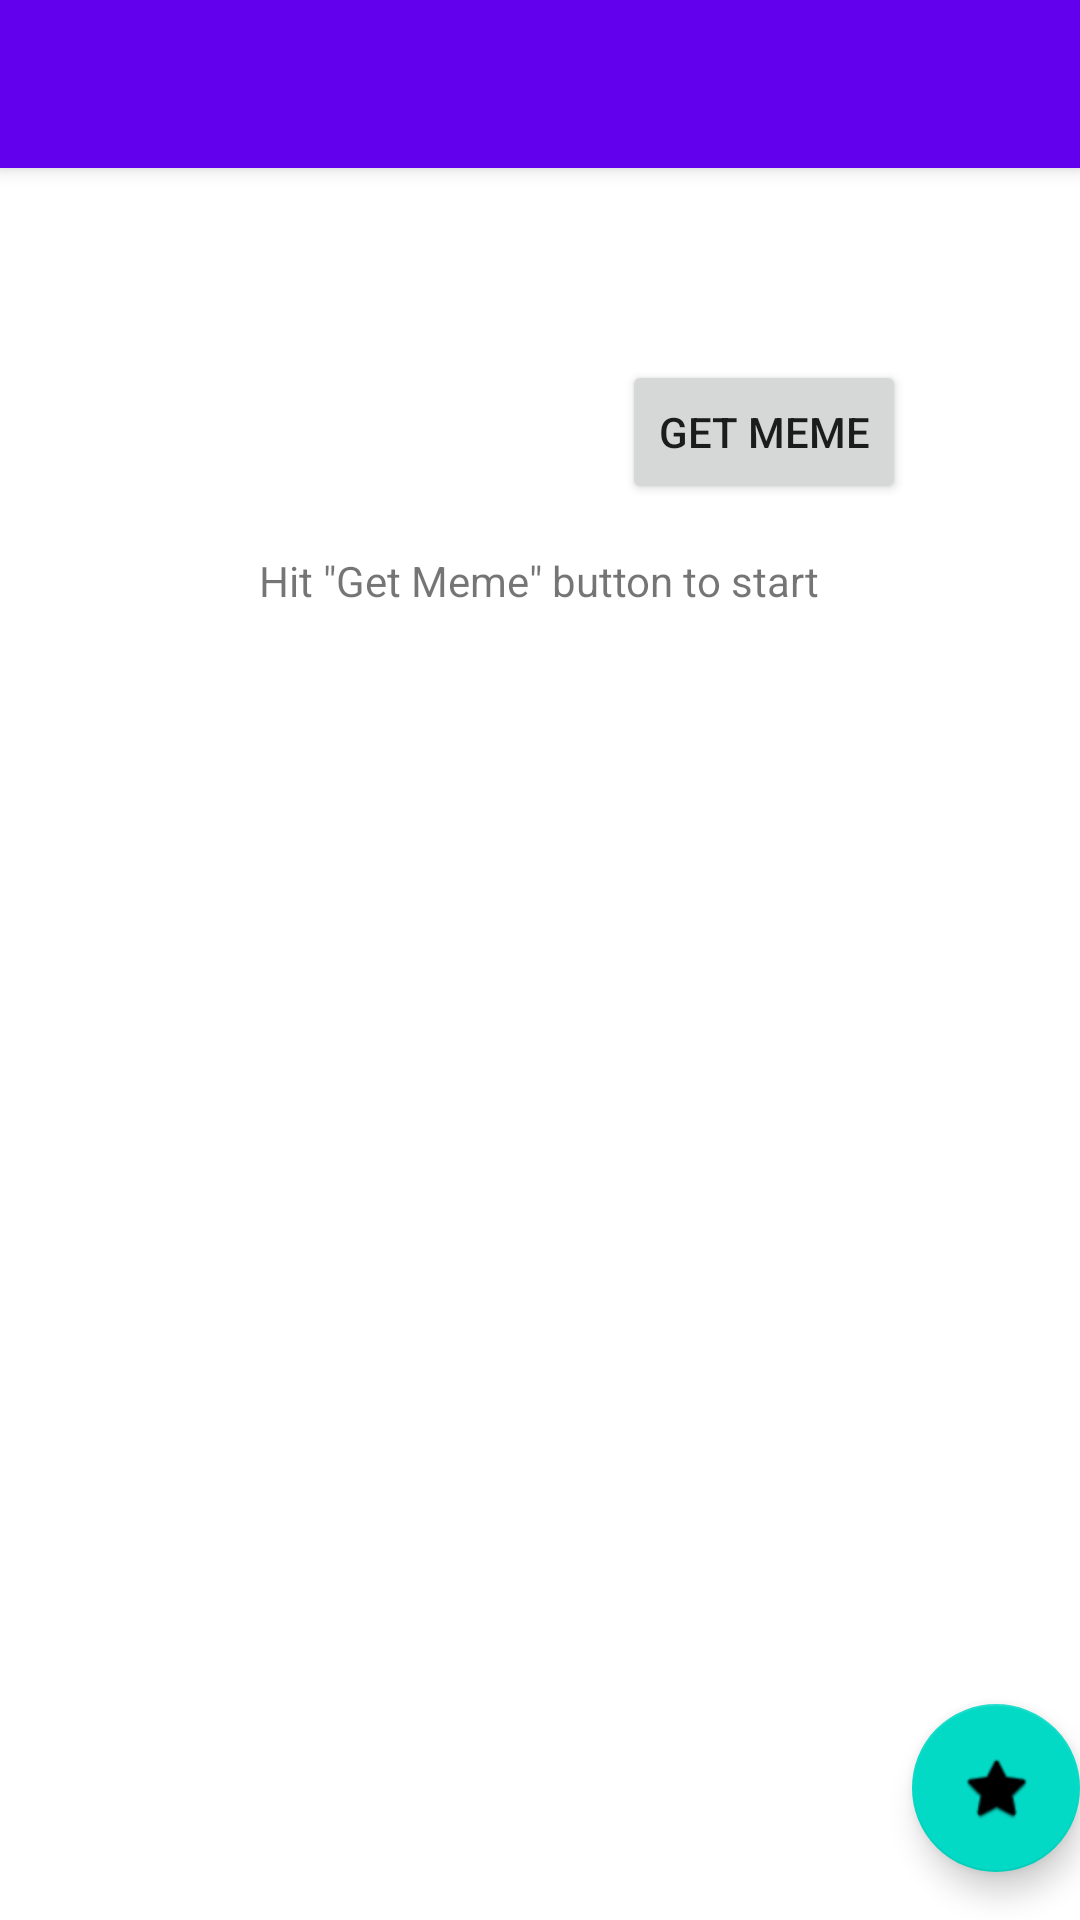

Point at icon controls on the screen. Image size 1080x1920, points as point (x, y).
star icon used for favouring meme: point (996, 1788)
